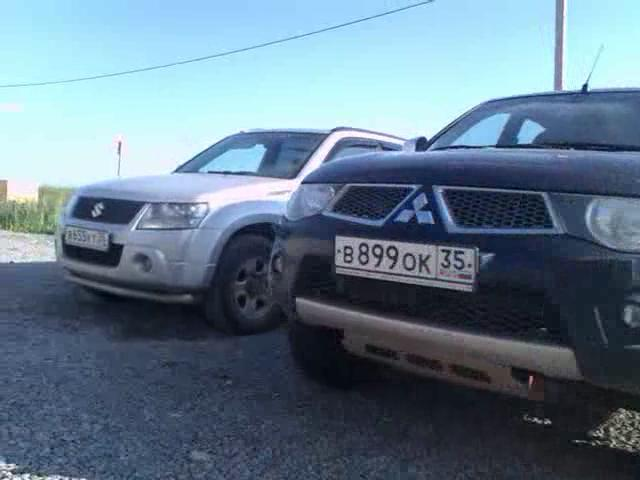car license plate: (333, 234, 478, 297), (62, 221, 112, 256)
